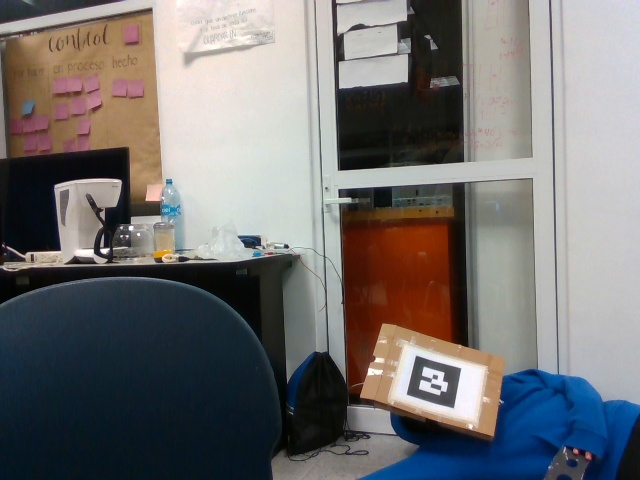ar3: (402, 351, 461, 410)
